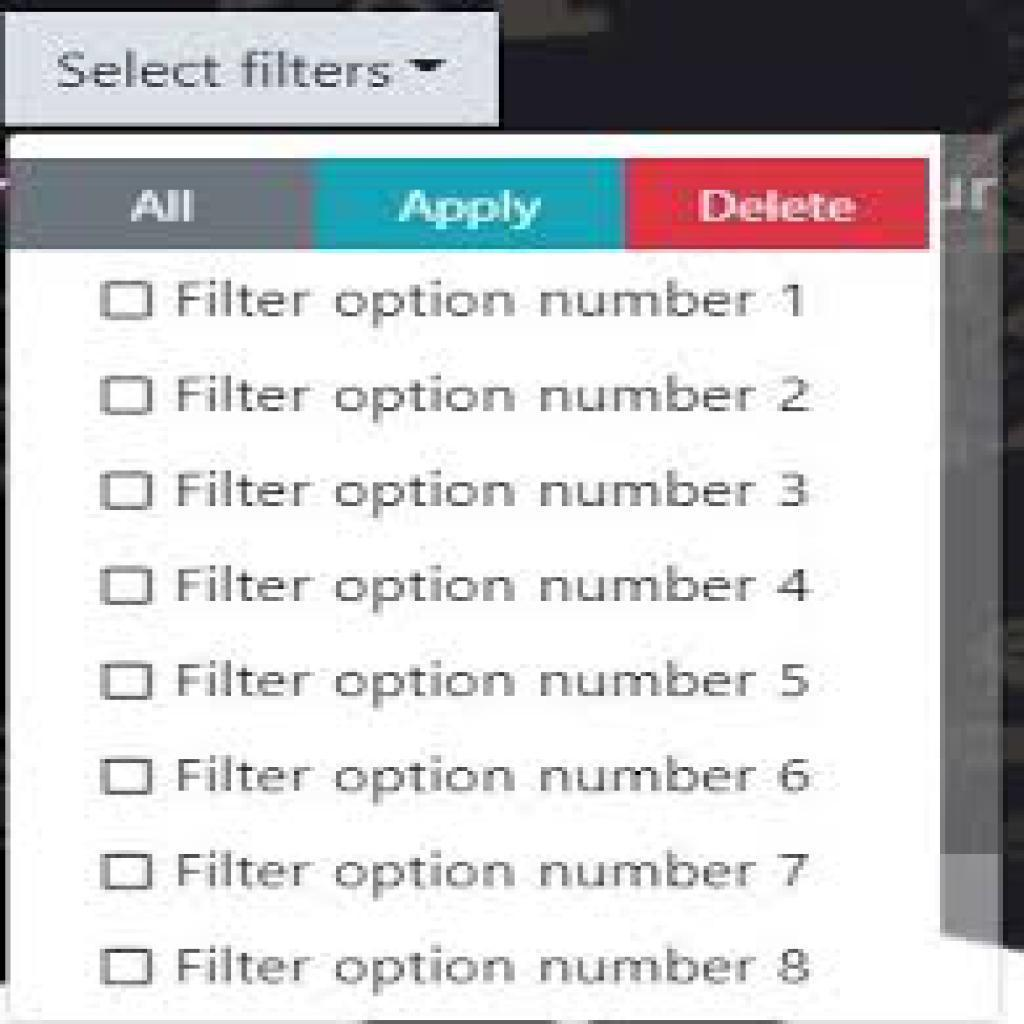button: (9, 157, 314, 248), (314, 161, 625, 248), (628, 160, 929, 247)
checkbox: (103, 469, 154, 513), (102, 661, 152, 701), (101, 853, 154, 890), (103, 280, 154, 318), (101, 947, 152, 985), (101, 374, 148, 413), (104, 758, 153, 795), (104, 567, 150, 603)
dropdown: (0, 15, 499, 130)
